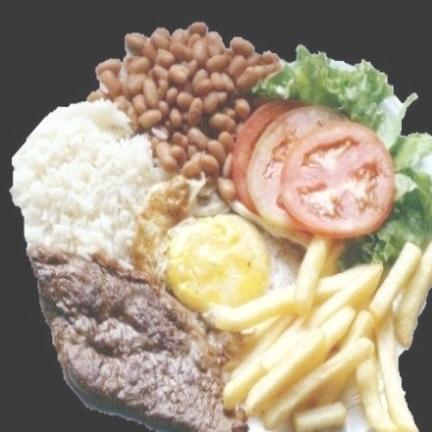beans: (84, 26, 289, 199)
egg: (123, 175, 300, 314)
meat: (28, 243, 243, 432)
potato: (207, 236, 432, 432)
rice: (12, 102, 160, 266)
salad: (253, 46, 432, 267)
tomato: (230, 99, 394, 236)
